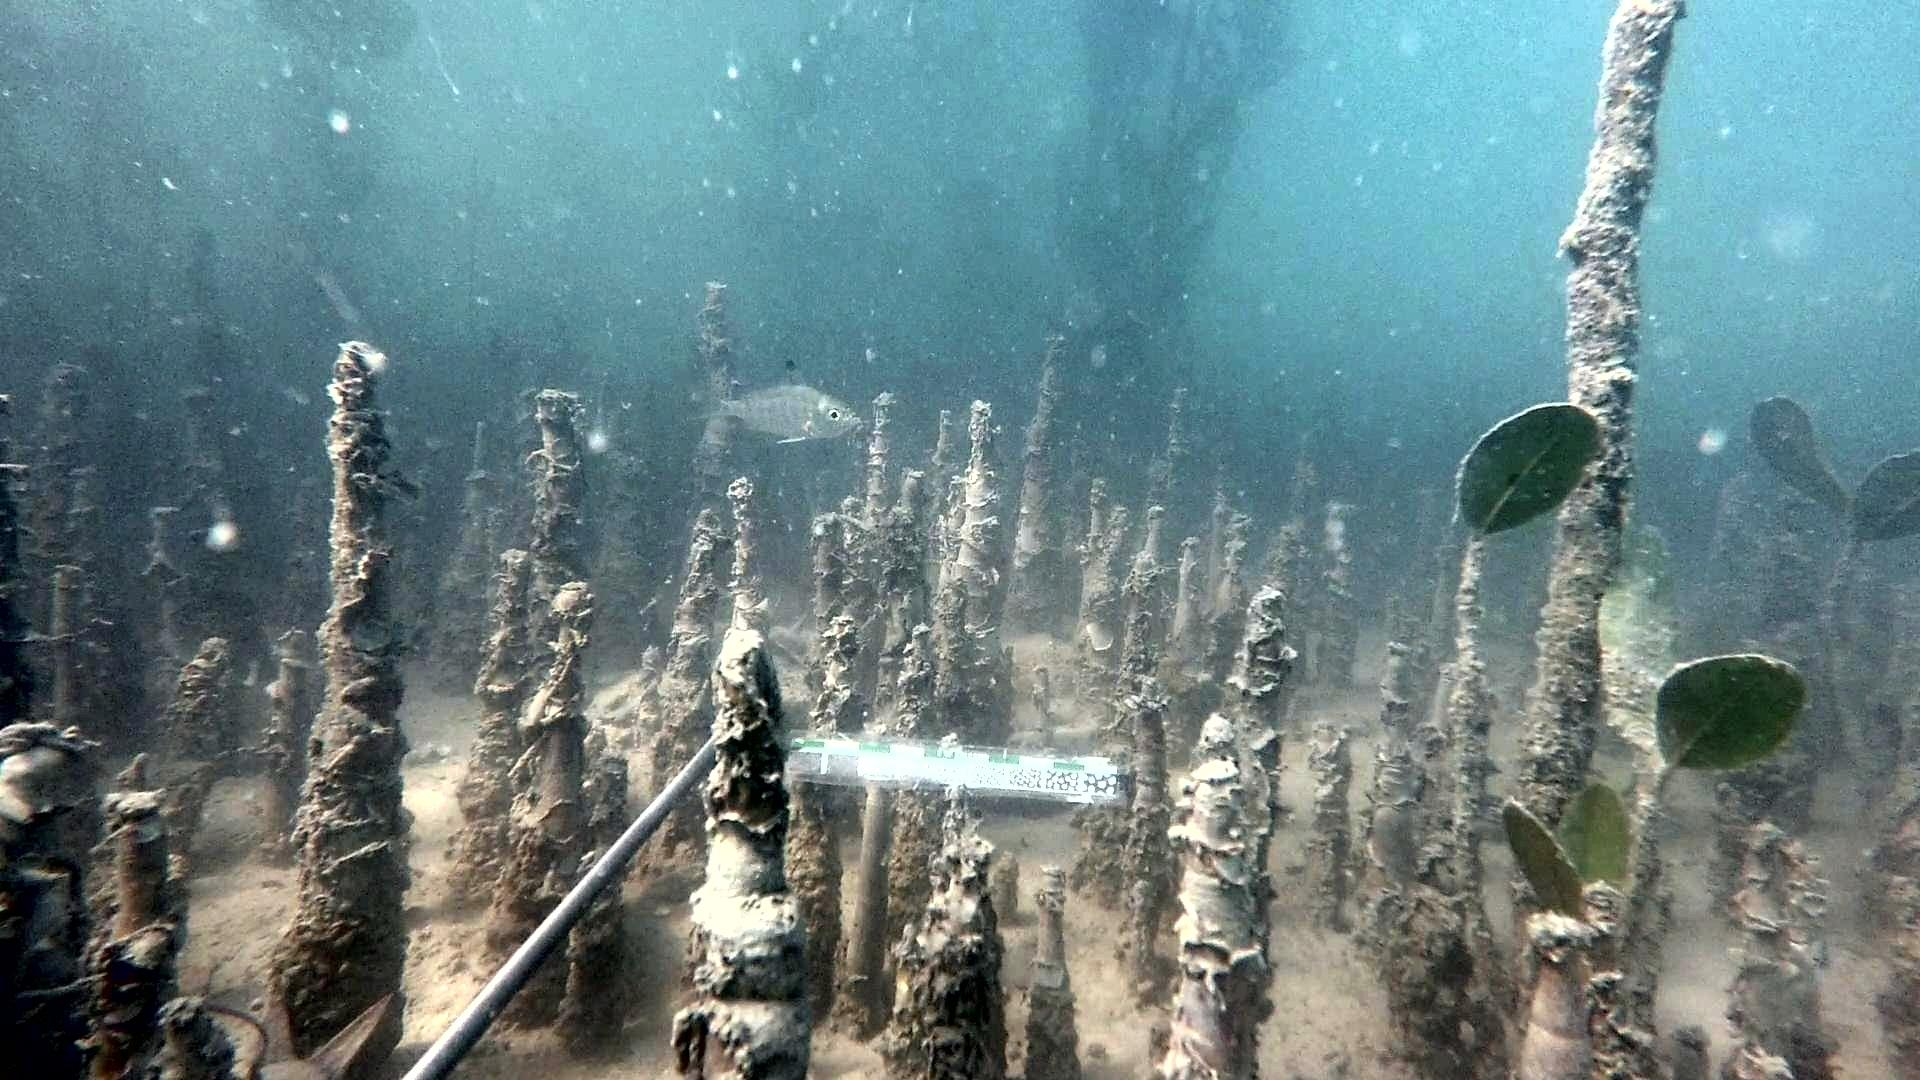gerres: (682, 359, 862, 446)
